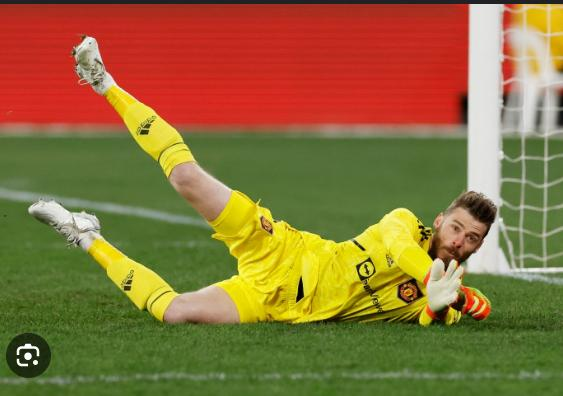goalkeeper: (27, 16, 515, 352)
